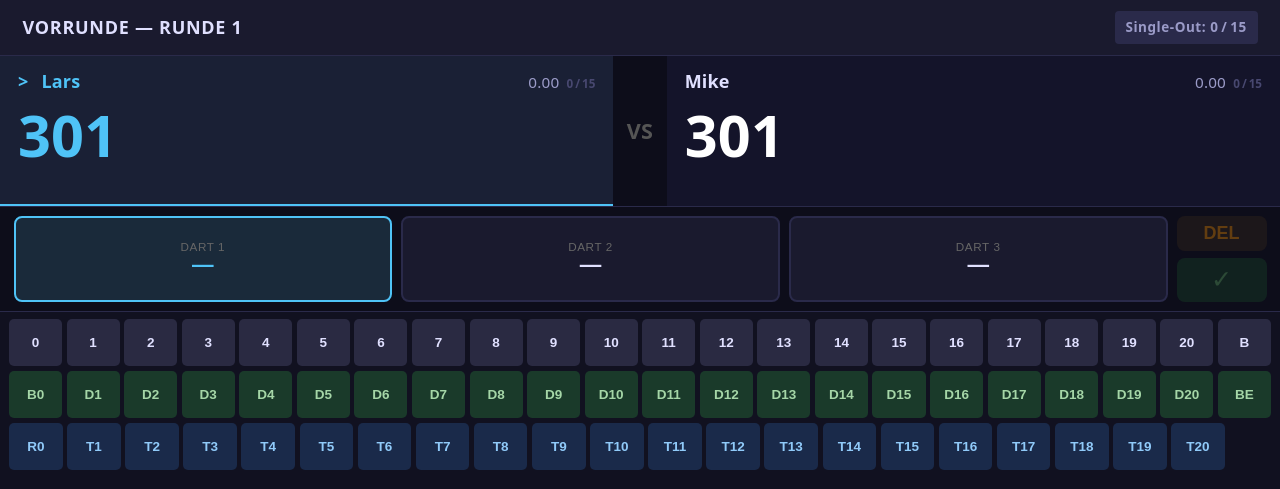
Test case: ScoreEntryScreen › DEL clears the current dart slot
Expected: the button "DEL" is shown, [1176,216,1266,251]
Click the button "T20" at (1198, 446), box [1171,423,1225,470]
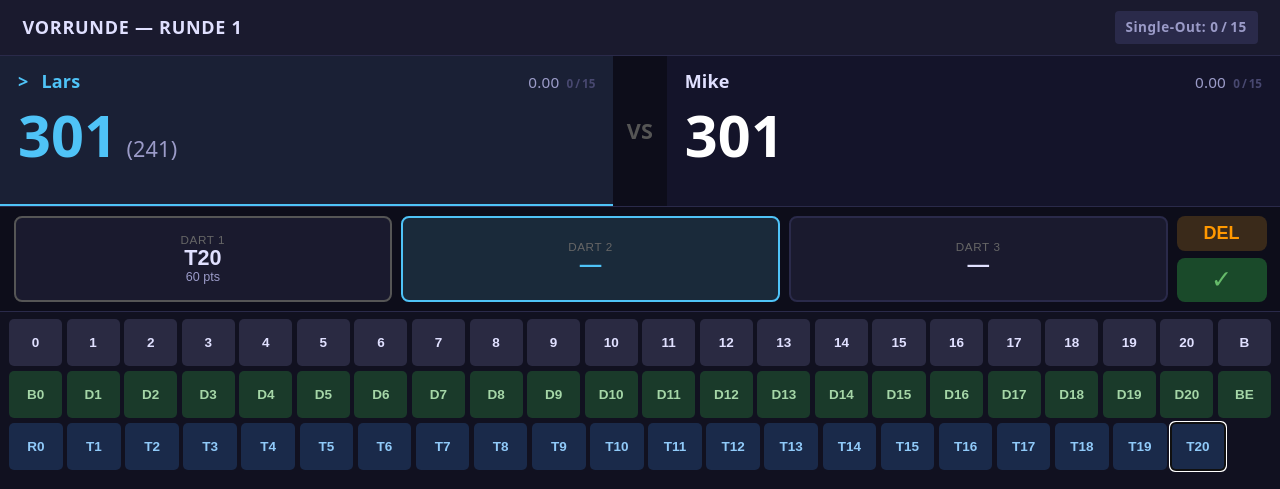
Click the button with aria-label "Dart 1: T20" at (203, 259), box [14,216,392,302]
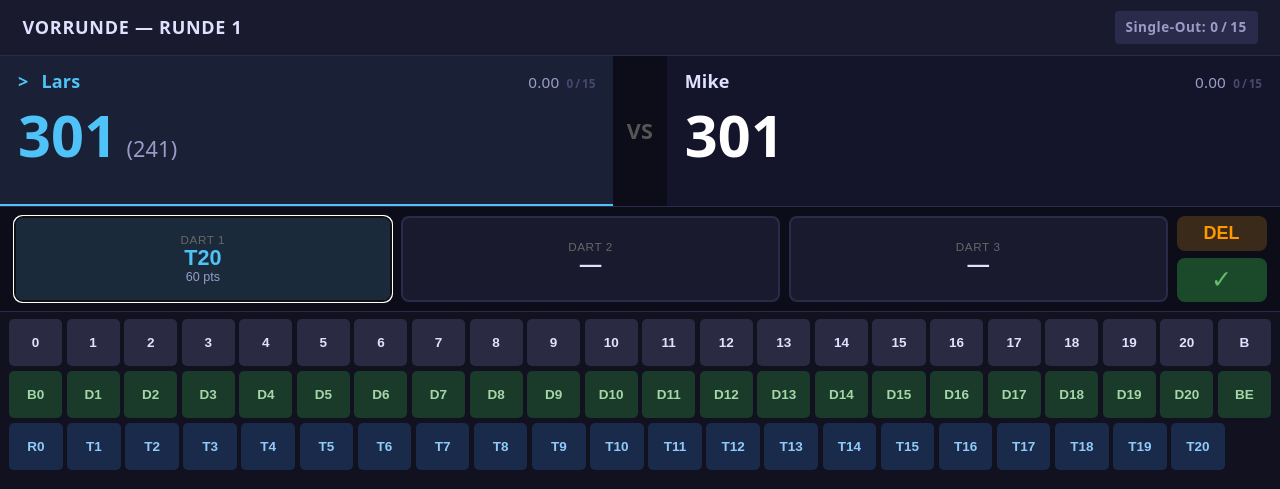
// Now DEL clears slot 1
Click the button "DEL" at (1222, 233), box [1176,216,1266,251]
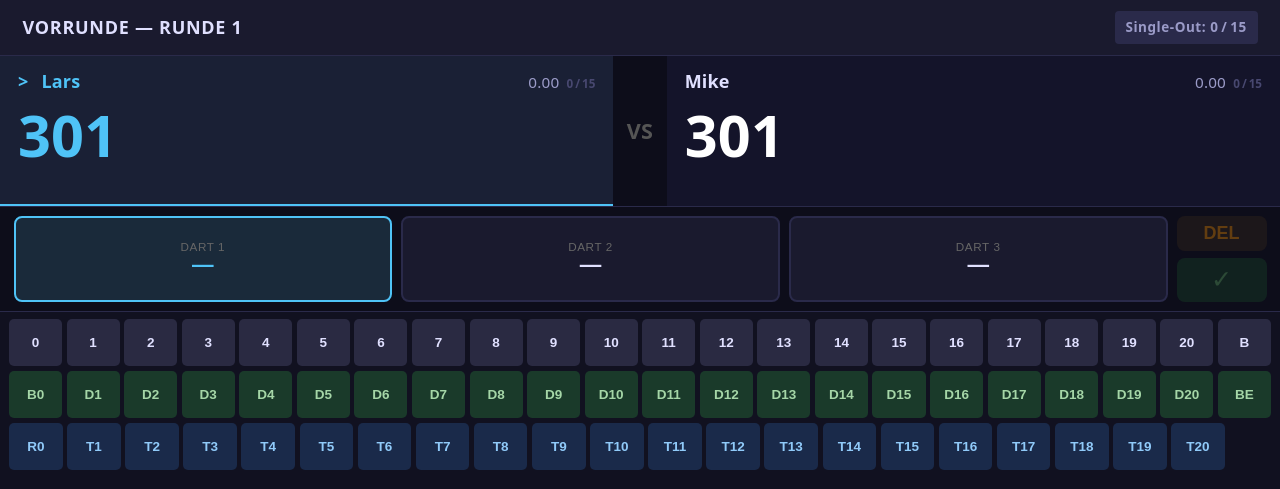
Now the button with aria-label "Dart 1: leer" is shown, box [14,216,392,302]
